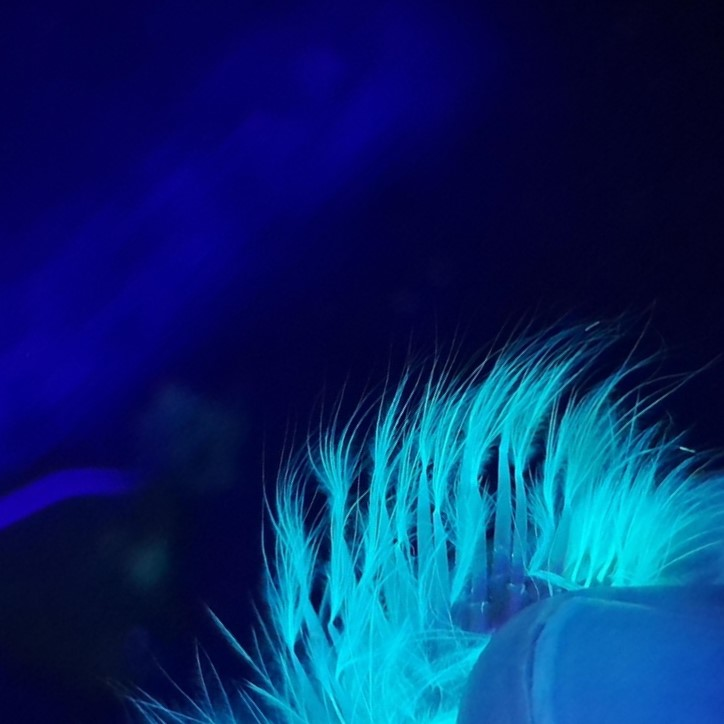female: (304, 432, 630, 706)
